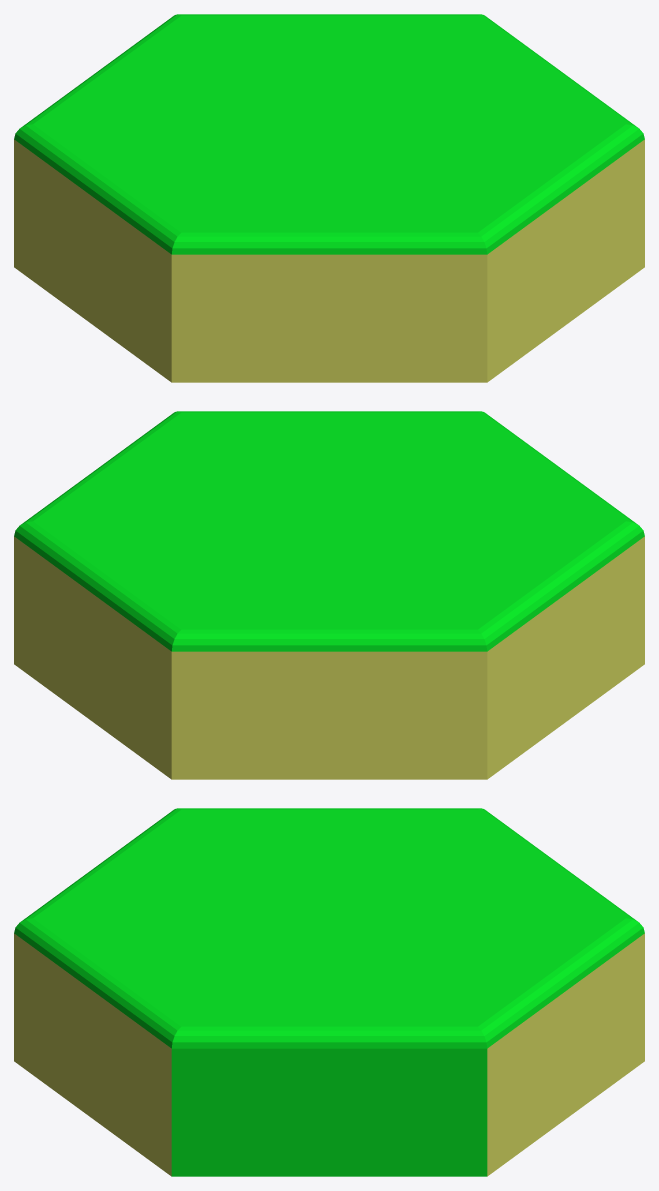
Rendered from Hexagone_water.fbx.
3 renders of one model, top to bottom at view 1: azimuth 30°, elevation 25°; view 2: azimuth 150°, elevation 25°; view 3: azimuth 270°, elevation 25°, orthographic.
Visible parts, largest first — view 1: Cylindre; view 2: Cylindre; view 3: Cylindre.
Part boxes in pixels (<box>): Cylindre: <box>14,14,644,382</box>; Cylindre: <box>14,411,644,779</box>; Cylindre: <box>14,808,644,1176</box>.
Size of the model in its own units: 173 by 50 by 200.
